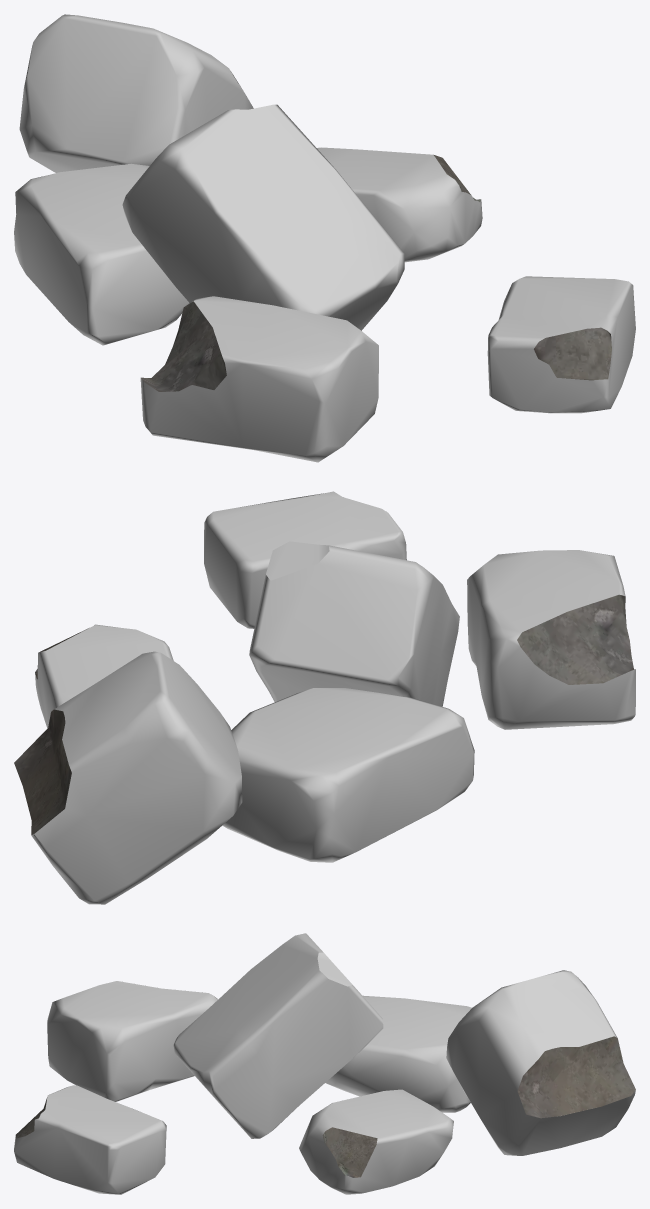
The picture shows the model from 3 angles, top to bottom: view 1: azimuth 30°, elevation 25°; view 2: azimuth 150°, elevation 25°; view 3: azimuth 270°, elevation 25°; orthographic projection. The views are drawn at different scales.
Visible parts, largest first — view 1: SM_Castle_Floor_Stones_01_Dmg_v1_LOD0; view 2: SM_Castle_Floor_Stones_01_Dmg_v1_LOD0; view 3: SM_Castle_Floor_Stones_01_Dmg_v1_LOD0.
Part boxes in pixels (bbox=[...]): SM_Castle_Floor_Stones_01_Dmg_v1_LOD0: bbox=[14, 14, 635, 462]; SM_Castle_Floor_Stones_01_Dmg_v1_LOD0: bbox=[14, 491, 635, 904]; SM_Castle_Floor_Stones_01_Dmg_v1_LOD0: bbox=[14, 933, 635, 1194].
Bounding box in the file's own units: 2.29 × 1.06 × 3.57.
